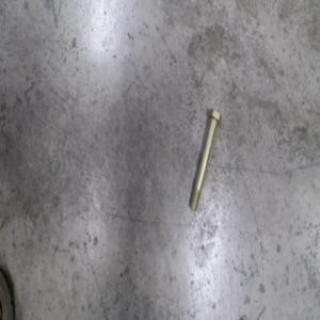Bolttrack_idkeyframe: (187, 108, 221, 212)
